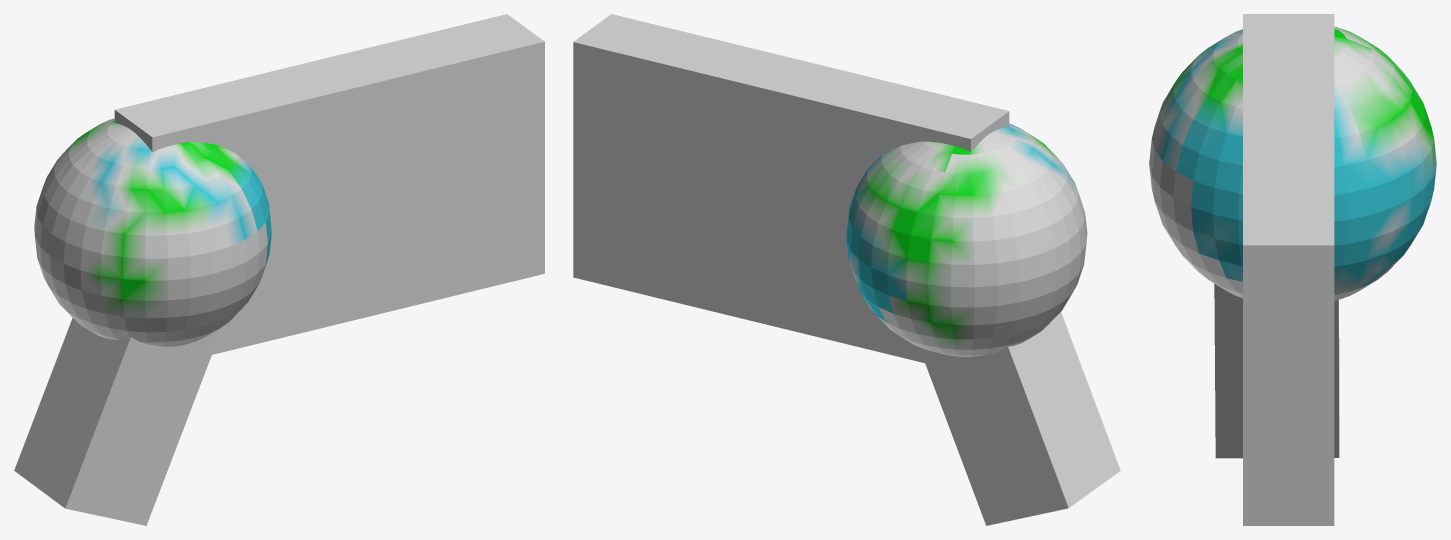
File: Disk_Gun.dae
The picture shows the model from 3 angles, left to right: view 1: azimuth 30°, elevation 25°; view 2: azimuth 150°, elevation 25°; view 3: azimuth 270°, elevation 25°; orthographic projection. The views are drawn at different scales.
Parts seen in each view (by area): view 1: Cube, Sphere, Cube_002; view 2: Cube, Sphere, Cube_002; view 3: Cube, Sphere, Cube_002.
Boxes of the visible parts, x1=… form: Cube: x1=114, y1=14, x2=544, y2=354; Sphere: x1=34, y1=118, x2=271, y2=346; Cube_002: x1=14, y1=318, x2=222, y2=525; Cube: x1=573, y1=14, x2=1009, y2=362; Sphere: x1=846, y1=123, x2=1087, y2=356; Cube_002: x1=919, y1=312, x2=1120, y2=525; Cube: x1=1243, y1=14, x2=1334, y2=525; Sphere: x1=1149, y1=26, x2=1436, y2=300; Cube_002: x1=1214, y1=283, x2=1339, y2=458.
Bounding box in the file's own units: 11.07 × 4.65 × 8.1.
